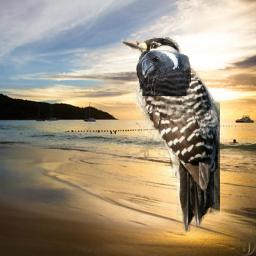Crow: (136, 50, 191, 96)
Woodpecker: (121, 37, 220, 234)
